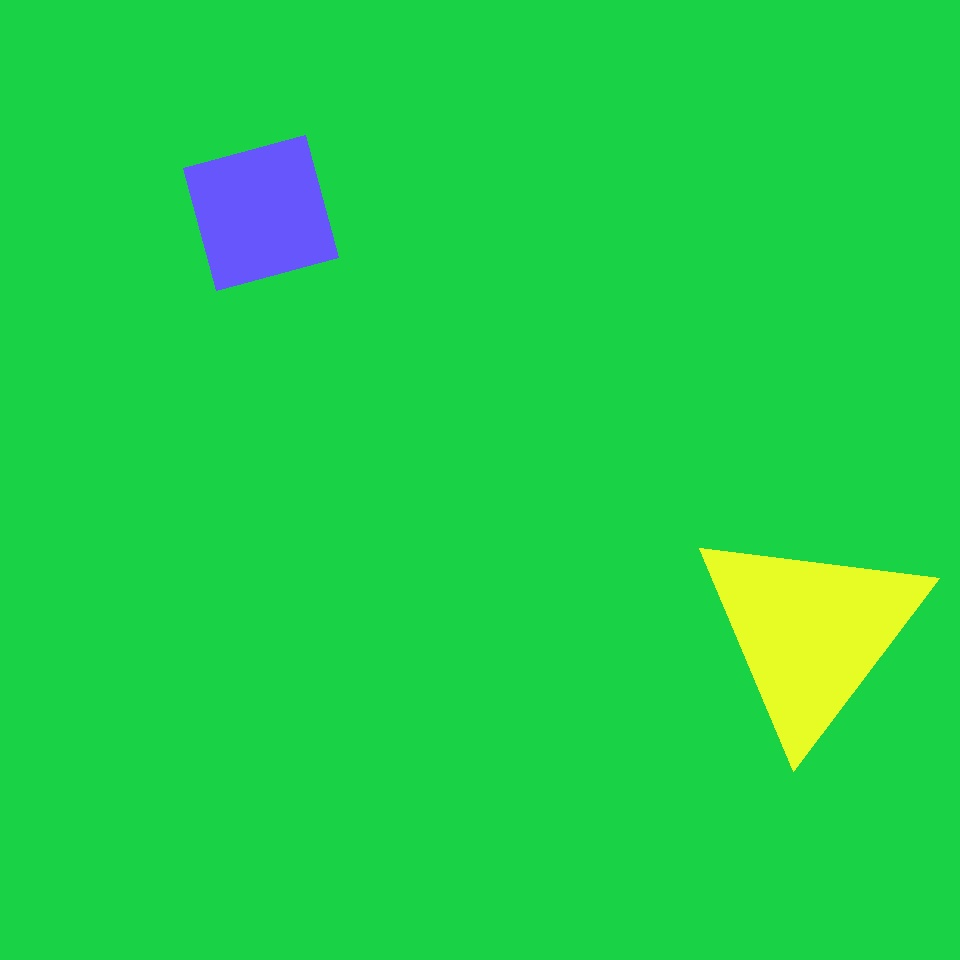circle: (691, 522, 931, 745), (326, 224, 403, 310)
square: (222, 610, 527, 915), (183, 135, 338, 290)
triangle: (544, 527, 903, 886)
